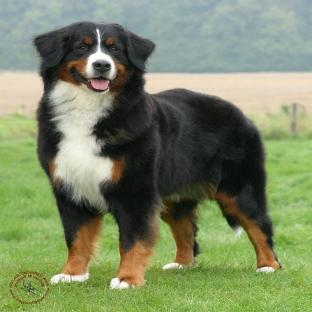Animal: (34, 22, 281, 289)
